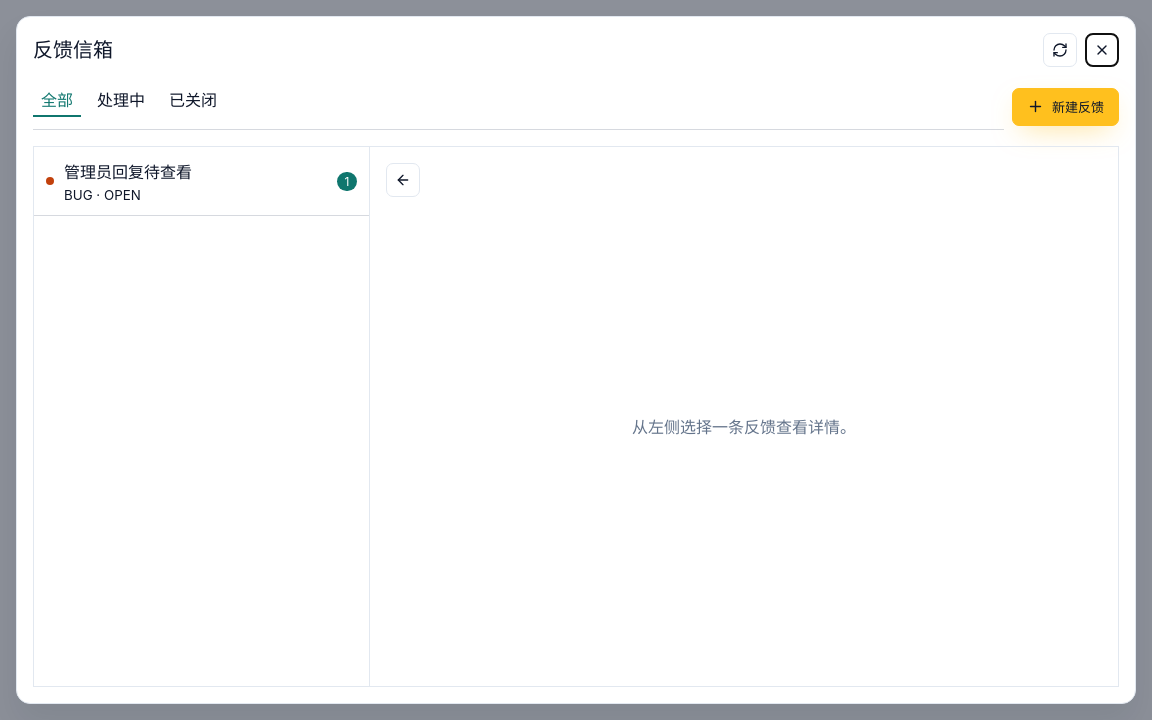
Scenario: UserFeedbackDialog › replies to a closed conversation and exposes the reopened state
expect the text "管理员回复待查看" is shown: met, box left=64, top=162, right=192, bottom=182
Click the button "管理员回复待查看 BUG · OPEN 1". click: (128, 172)
box: left=34, top=147, right=369, bottom=216
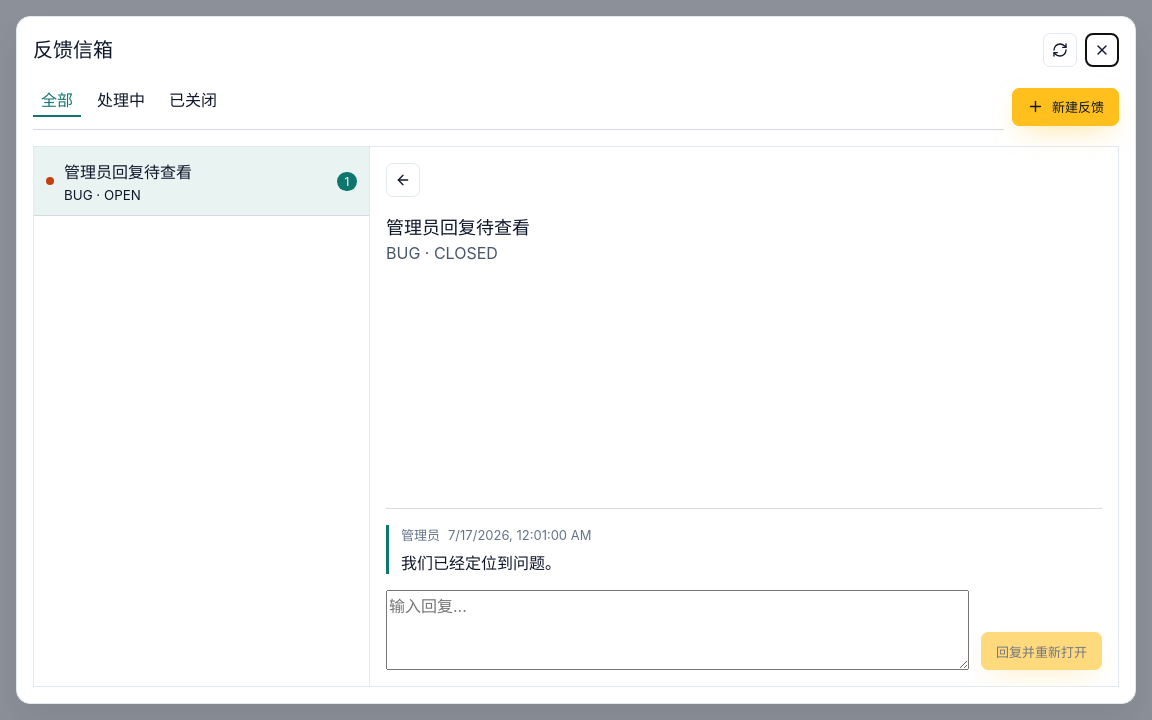
expect the button "回复并重新打开" is shown: met, box left=981, top=632, right=1102, bottom=670
Type "补充信息" into the text box named "回复内容". click: (678, 630)
box: left=386, top=590, right=969, bottom=670
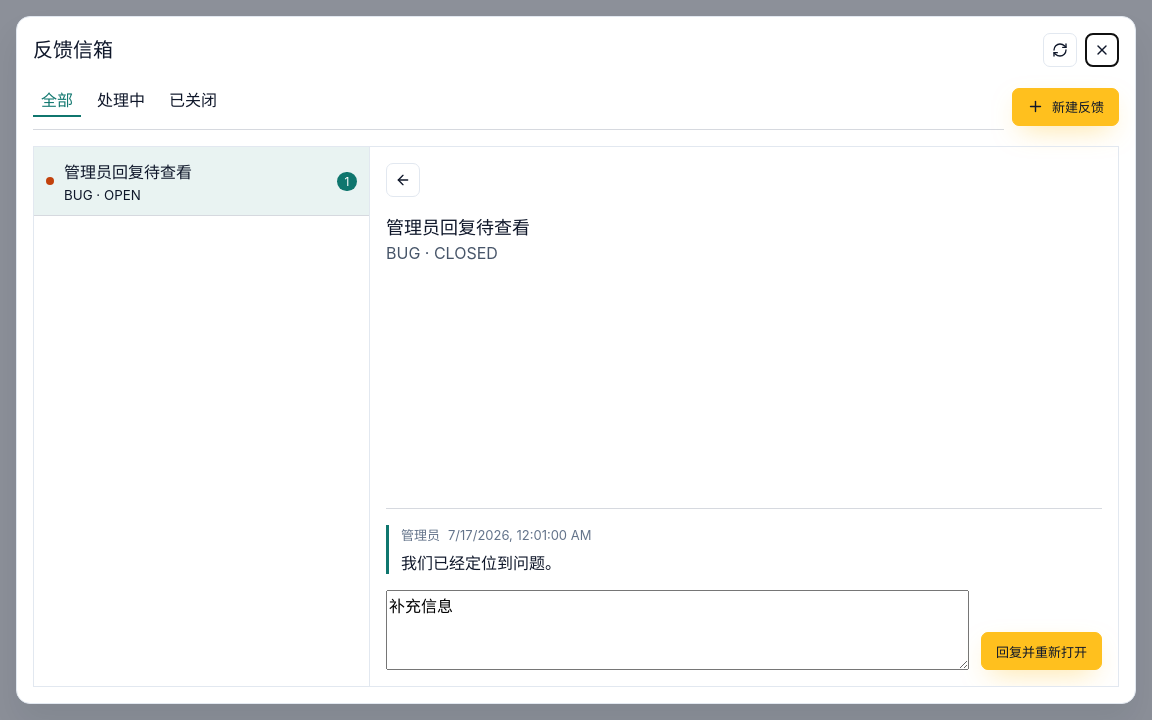
Click the button "回复并重新打开". click: (1042, 651)
box: left=981, top=632, right=1102, bottom=670
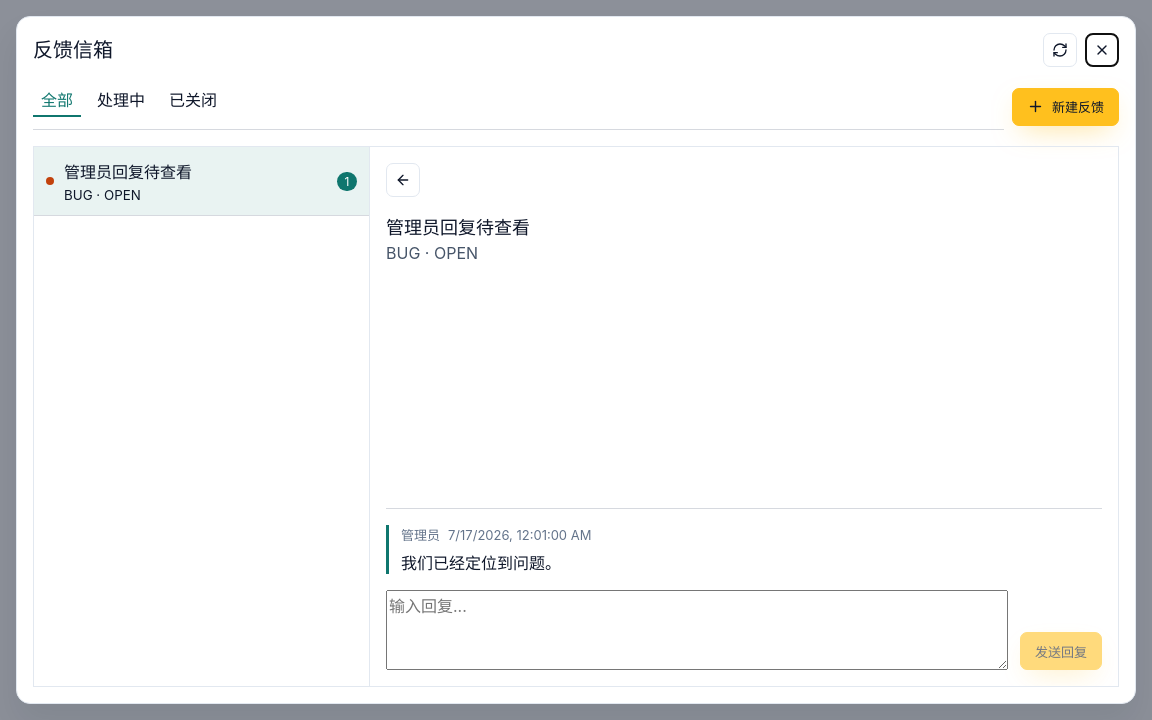
expect the button "发送回复" is shown: met, box left=1020, top=632, right=1102, bottom=670
